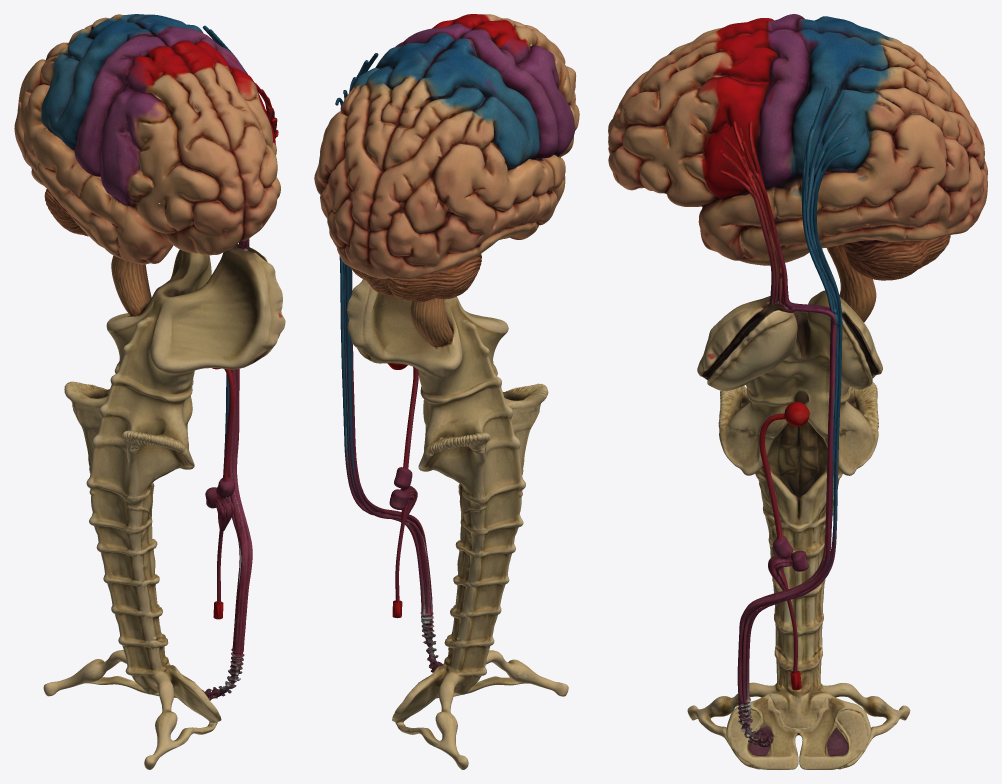
File: cerebro_tronco_bbamed.glb
3 views of the same model, side by side, from view 1: azimuth 30°, elevation 25°; view 2: azimuth 150°, elevation 25°; view 3: azimuth 270°, elevation 25° (orthographic). The views are drawn at different scales.
Parts seen in each view (by area): view 1: tripo_node_d4dc3a7d-d73e-4e74-90ce-f463477d3dc2; view 2: tripo_node_d4dc3a7d-d73e-4e74-90ce-f463477d3dc2; view 3: tripo_node_d4dc3a7d-d73e-4e74-90ce-f463477d3dc2.
Boxes of the visible parts, x1=… form: tripo_node_d4dc3a7d-d73e-4e74-90ce-f463477d3dc2: x1=14, y1=14, x2=285, y2=769; tripo_node_d4dc3a7d-d73e-4e74-90ce-f463477d3dc2: x1=314, y1=14, x2=579, y2=769; tripo_node_d4dc3a7d-d73e-4e74-90ce-f463477d3dc2: x1=608, y1=14, x2=987, y2=769.
Bounding box in the file's own units: 0.1536 × 0.5 × 0.2377.
Materials: 1 (1 with a texture image).
